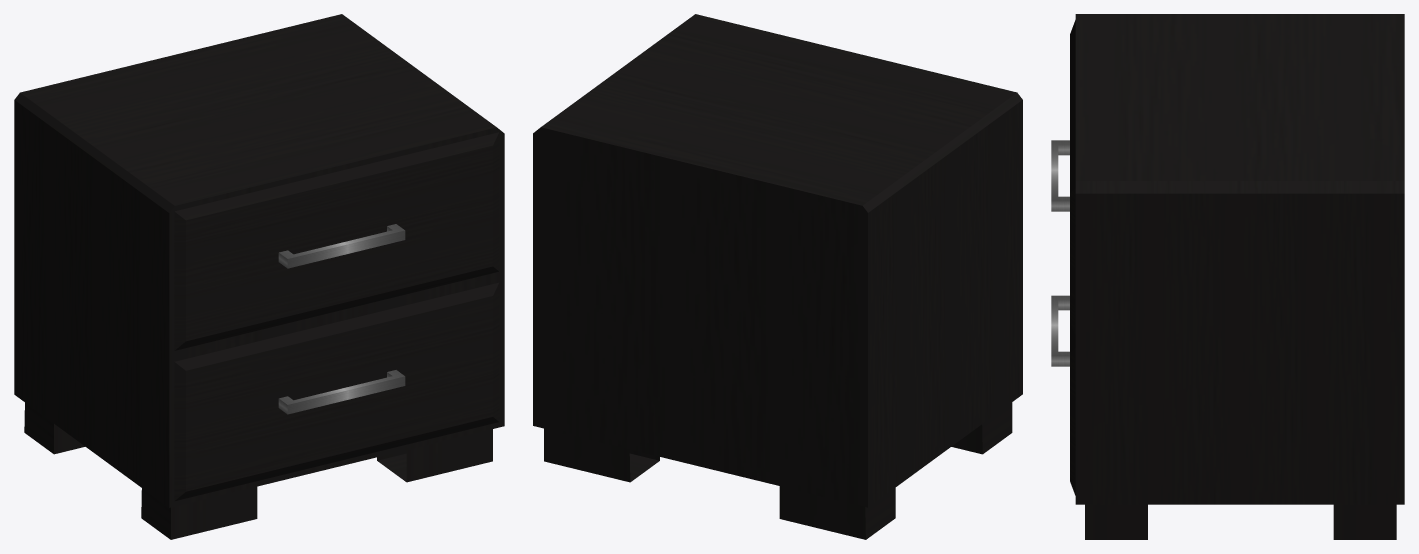
File: Night_Stand_B.FBX
3 views of the same model, side by side, from view 1: azimuth 30°, elevation 25°; view 2: azimuth 150°, elevation 25°; view 3: azimuth 270°, elevation 25° (orthographic). The views are drawn at different scales.
Parts seen in each view (by area): view 1: Nightstand; view 2: Nightstand; view 3: Nightstand.
Part boxes in pixels (left/top/right/bottom): Nightstand: left=14, top=14, right=504, bottom=539; Nightstand: left=533, top=14, right=1022, bottom=539; Nightstand: left=1051, top=14, right=1404, bottom=539.
Size of the model in its own units: 175 by 168 by 150.
